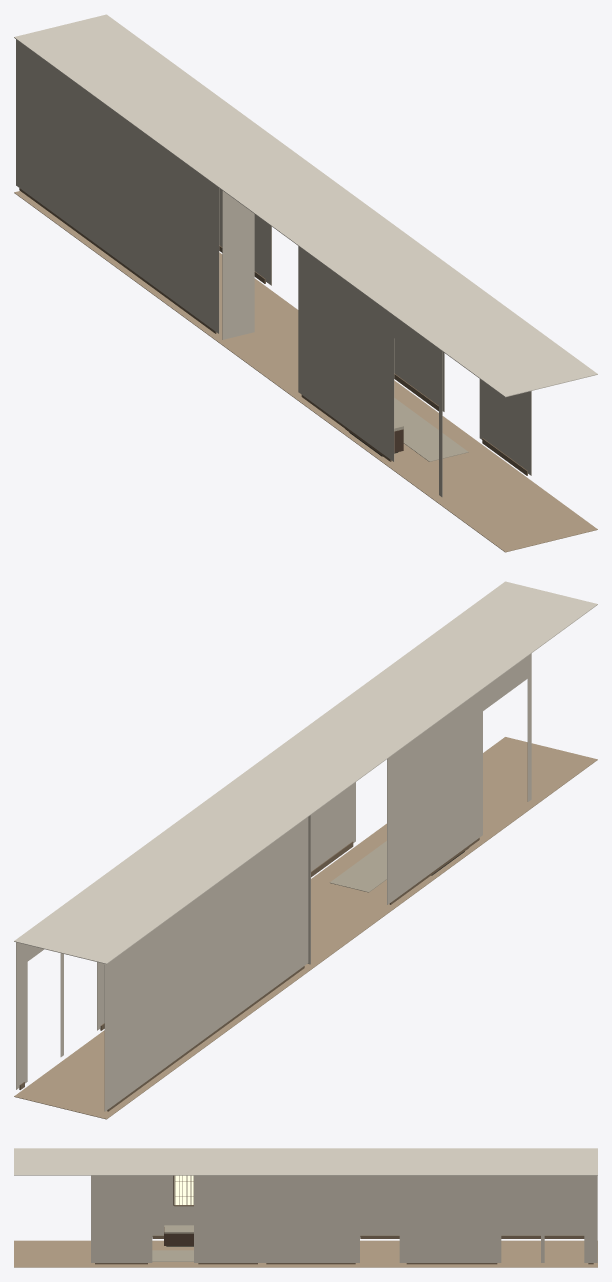
File: corridor-3.glb
3 renders of one model, top to bottom at view 1: azimuth 30°, elevation 25°; view 2: azimuth 150°, elevation 25°; view 3: azimuth 270°, elevation 25°, orthographic. The views are drawn at different scales.
Parts seen in each view (by area): view 1: DESIGN | Entrance coordinated ceiling, DESIGN | Entrance paired wall finish, DESIGN | Entrance floor finish, DESIGN | Entrance paired wall finish.003, DESIGN | Arch approach finish, DESIGN | Entrance paired wall finish.013, DESIGN | Entrance quiet runner, DESIGN | Entrance paired wall finish.012, DESIGN | Entrance paired wall finish.006, DESIGN | Entrance paired wall finish.002; view 2: DESIGN | Entrance coordinated ceiling, DESIGN | Entrance paired wall finish, DESIGN | Entrance floor finish, DESIGN | Entrance paired wall finish.003, DESIGN | Entrance paired wall finish.012, DESIGN | Entrance paired wall finish.005, DESIGN | Entrance quiet runner, DESIGN | Entrance paired wall finish.002, DESIGN | Entrance paired wall finish.001; view 3: DESIGN | Entrance coordinated ceiling, DESIGN | Entrance paired wall finish.006, DESIGN | Entrance paired wall finish.009, DESIGN | Entrance floor finish, DESIGN | Entrance paired wall finish.012, DESIGN | Entrance paired wall finish, DESIGN | Entrance paired wall finish.013, DESIGN | Entrance paired wall finish.003, DESIGN | Entrance paired wall finish.005, DESIGN | Entrance paired wall finish.007, DESIGN | Entrance paired wall finish.010, DESIGN | Entrance paired wall finish.004 (+8 smaller).
Part boxes in pixels (x1=…): DESIGN | Entrance coordinated ceiling: x1=14, y1=14, x2=597, y2=397; DESIGN | Entrance paired wall finish: x1=16, y1=39, x2=219, y2=333; DESIGN | Entrance floor finish: x1=14, y1=191, x2=597, y2=552; DESIGN | Entrance paired wall finish.003: x1=298, y1=246, x2=394, y2=461; DESIGN | Arch approach finish: x1=222, y1=190, x2=254, y2=339; DESIGN | Entrance paired wall finish.013: x1=479, y1=379, x2=531, y2=475; DESIGN | Entrance quiet runner: x1=394, y1=398, x2=468, y2=461; DESIGN | Entrance paired wall finish.012: x1=394, y1=339, x2=444, y2=411; DESIGN | Entrance paired wall finish.006: x1=219, y1=188, x2=268, y2=283; DESIGN | Entrance paired wall finish.002: x1=394, y1=316, x2=438, y2=370; DESIGN | Entrance coordinated ceiling: x1=14, y1=581, x2=597, y2=964; DESIGN | Entrance paired wall finish: x1=104, y1=817, x2=308, y2=1111; DESIGN | Entrance floor finish: x1=14, y1=737, x2=597, y2=1119; DESIGN | Entrance paired wall finish.003: x1=387, y1=689, x2=482, y2=904; DESIGN | Entrance paired wall finish.012: x1=311, y1=782, x2=355, y2=871; DESIGN | Entrance paired wall finish.005: x1=16, y1=942, x2=27, y2=1089; DESIGN | Entrance quiet runner: x1=329, y1=841, x2=386, y2=892; DESIGN | Entrance paired wall finish.002: x1=483, y1=656, x2=527, y2=710; DESIGN | Entrance paired wall finish.001: x1=527, y1=653, x2=531, y2=801; DESIGN | Entrance coordinated ceiling: x1=14, y1=1148, x2=597, y2=1175; DESIGN | Entrance paired wall finish.006: x1=402, y1=1175, x2=501, y2=1262; DESIGN | Entrance paired wall finish.009: x1=262, y1=1175, x2=359, y2=1262; DESIGN | Entrance floor finish: x1=14, y1=1240, x2=597, y2=1267; DESIGN | Entrance paired wall finish.012: x1=194, y1=1175, x2=262, y2=1262; DESIGN | Entrance paired wall finish: x1=360, y1=1176, x2=584, y2=1236; DESIGN | Entrance paired wall finish.013: x1=91, y1=1175, x2=152, y2=1262; DESIGN | Entrance paired wall finish.003: x1=152, y1=1175, x2=193, y2=1236; DESIGN | Entrance paired wall finish.005: x1=584, y1=1175, x2=597, y2=1262; DESIGN | Entrance paired wall finish.007: x1=501, y1=1175, x2=540, y2=1191; DESIGN | Entrance paired wall finish.010: x1=360, y1=1175, x2=399, y2=1191; DESIGN | Entrance paired wall finish.004: x1=545, y1=1175, x2=584, y2=1191.
Size of the model in its own units: 1.7 by 2.73 by 15.61.
